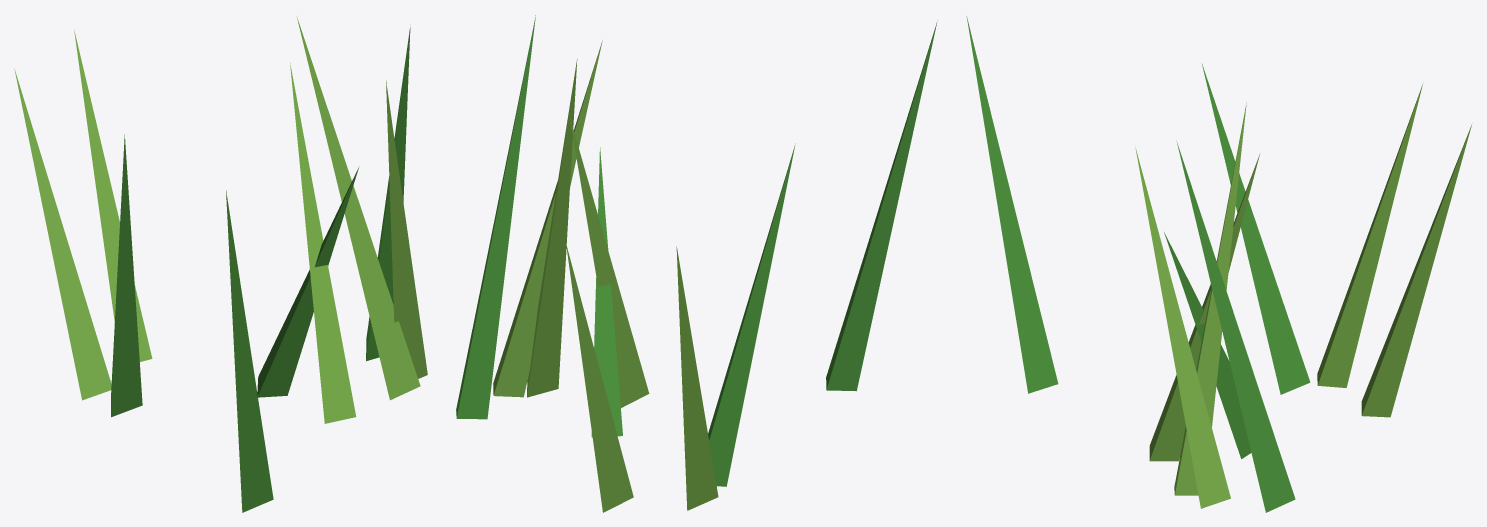
Rendered from prop_rumput.glb.
The picture shows the model from 3 angles, left to right: view 1: azimuth 30°, elevation 25°; view 2: azimuth 150°, elevation 25°; view 3: azimuth 270°, elevation 25°; orthographic projection. The views are drawn at different scales.
Parts seen in each view (by area): view 1: rumput; view 2: rumput; view 3: rumput.
Boxes of the visible parts, x1,y1,x2,y2 form: rumput: [14, 16, 427, 512]; rumput: [456, 15, 937, 512]; rumput: [966, 16, 1471, 512].
Bounding box in the file's own units: 0.5383 × 0.5934 × 0.7475.
